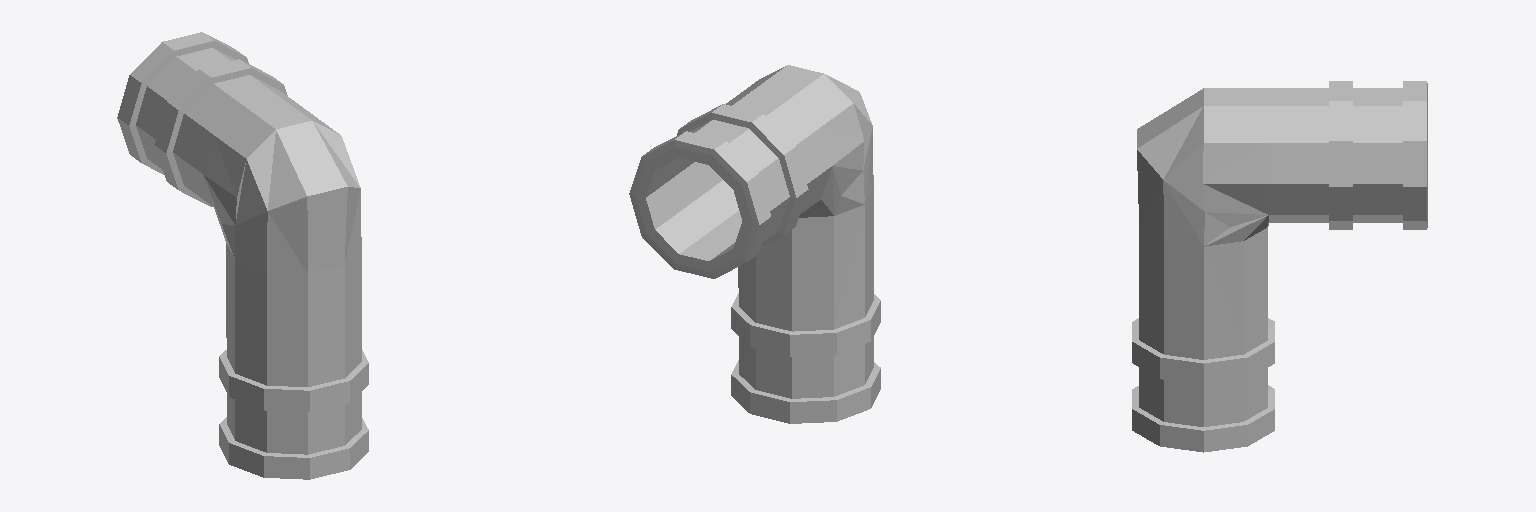
File: tuberia2.OBJ
The picture shows the model from 3 angles: view 1: azimuth 30°, elevation 25°; view 2: azimuth 150°, elevation 25°; view 3: azimuth 270°, elevation 25°; orthographic projection.
Parts seen in each view (by area): view 1: Group49752; view 2: Group49752; view 3: Group49752.
Part boxes in pixels (x1,y1,x2,y2): Group49752: (117,32,368,479); Group49752: (629,65,880,423); Group49752: (1132,81,1427,452).
Size of the model in its own units: 1.26 by 3.06 by 2.48.